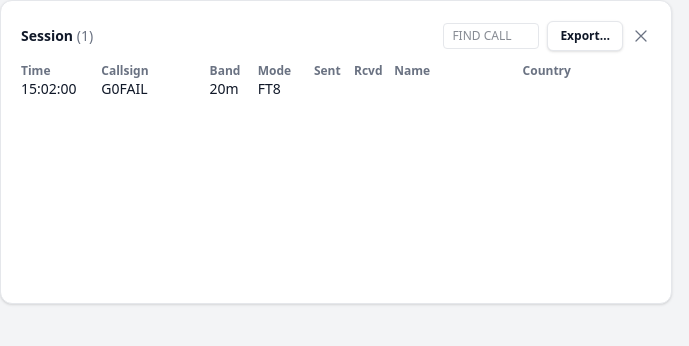
Test: SessionPanel › surfaces a hydration failure as a panel error line
Click the button "G0FAIL". click: {"x": 124, "y": 89}
box: [101,79,148,99]
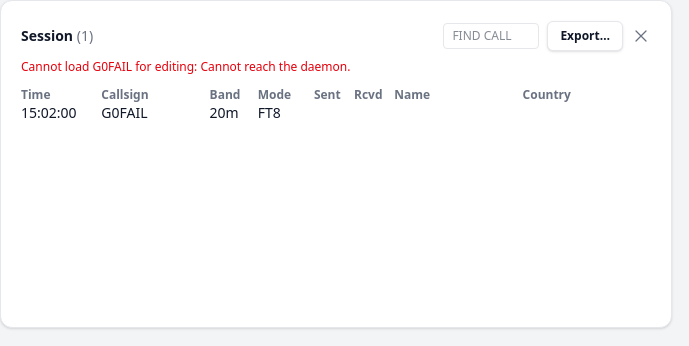
Now the text with test id "session-edit-error" shows "G0FAIL", box [21,58,350,75]
